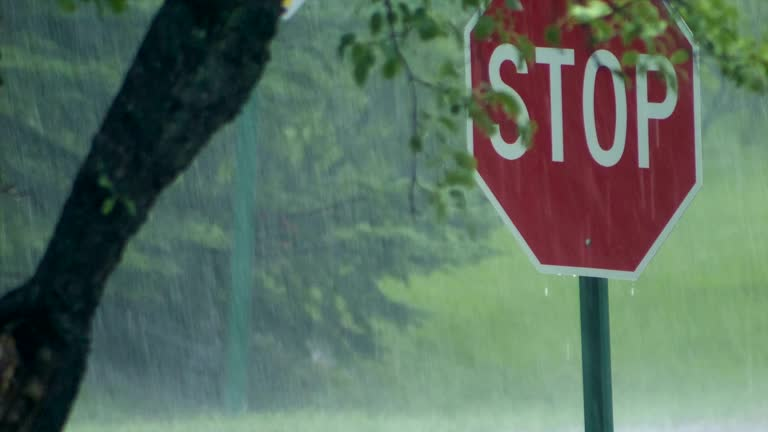StopSign: (463, 0, 703, 283)
